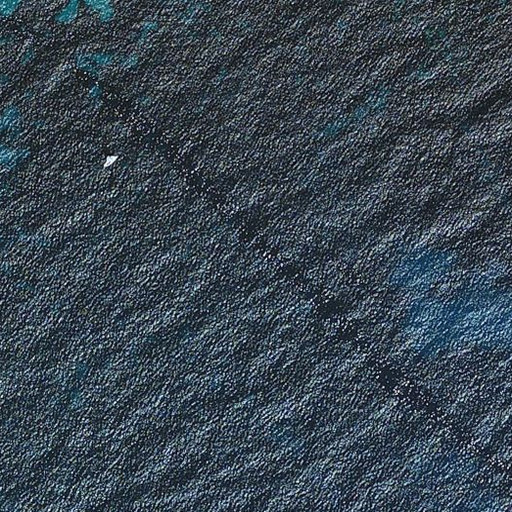ship: (101, 153, 121, 170)
